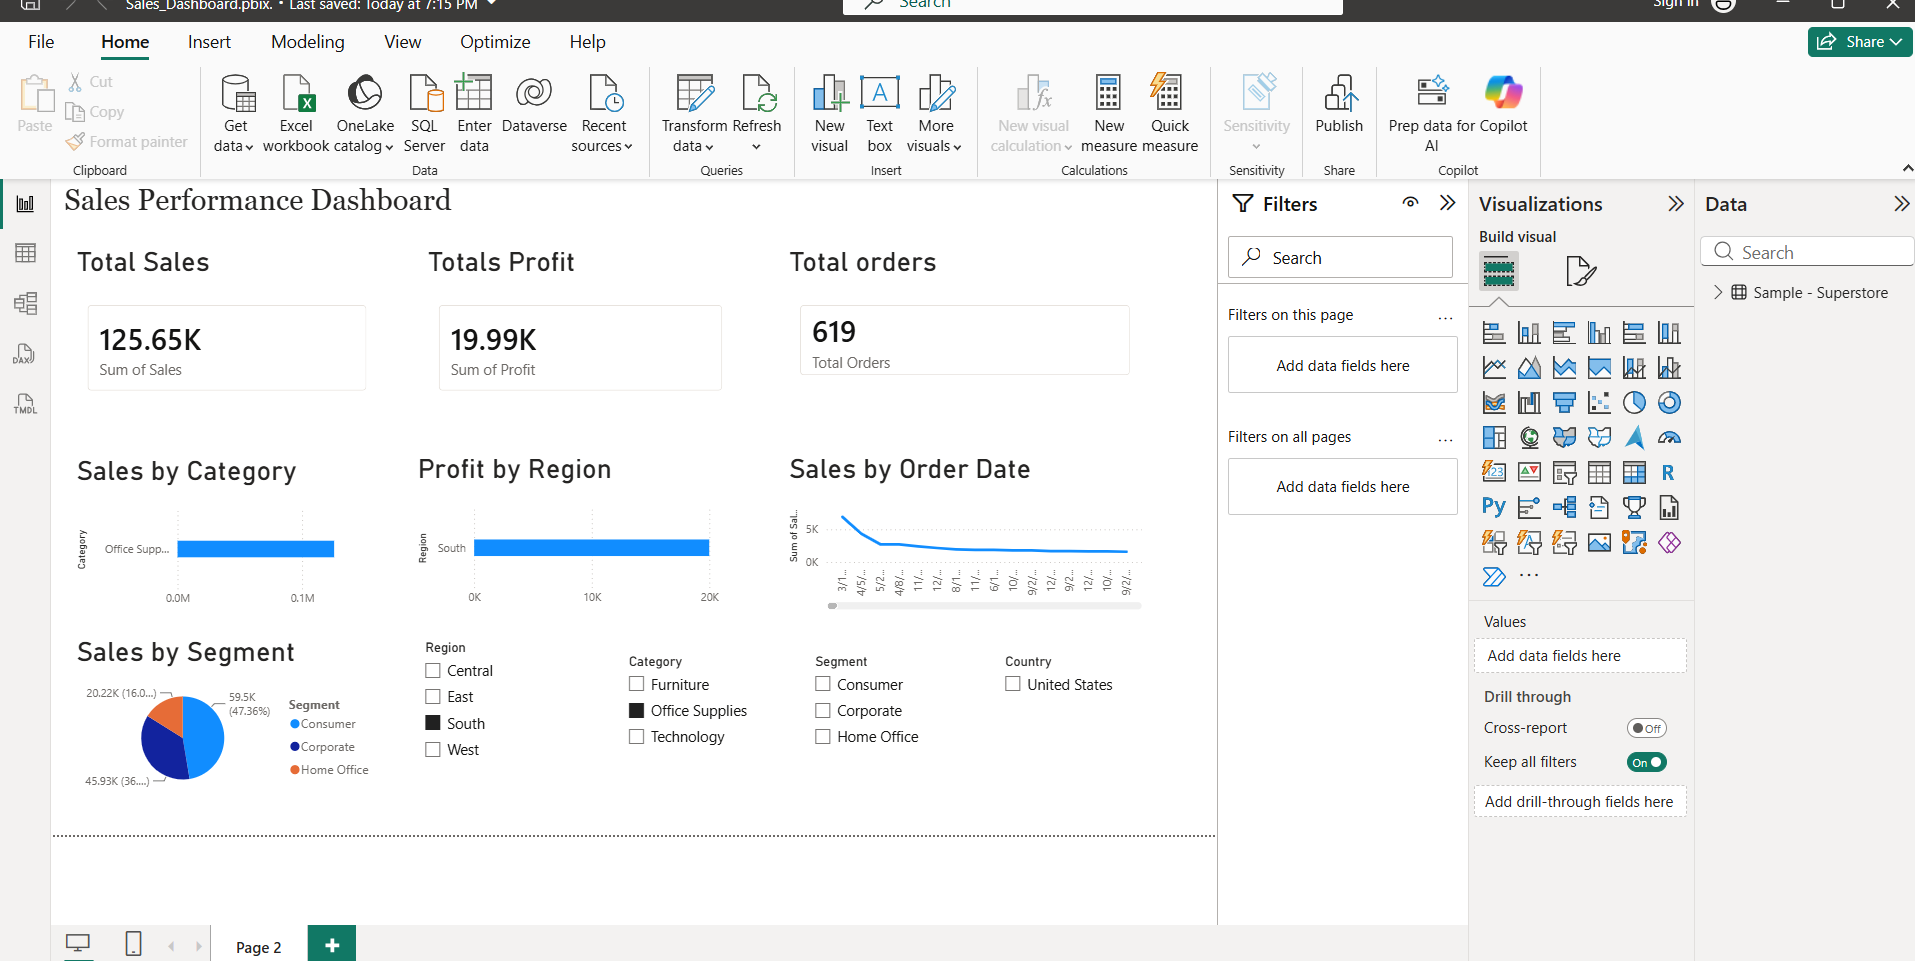

This screenshot's page, from the dashboard's own definition file:
{"tool":"powerbi","page":{"name":"Page 2","canvas":[1280,720],"ordinal":0},"visuals":[{"type":"textbox","box":[9.6,0,1270.7,50.8],"z":0},{"type":"cardVisual","title":"Total Sales","fields":{"Data":["Sum(Sample - Superstore.Sales)"]},"box":[23.3,72.7,340.3,177],"z":1},{"type":"cardVisual","title":"Totals Profit","fields":{"Data":["Sum(Sample - Superstore.Profit)"]},"box":[408.9,72.7,345.8,177],"z":2},{"type":"cardVisual","title":"Total orders","fields":{"Data":["Sample - Superstore.Total Orders"]},"box":[805.5,72.7,396.6,160.5],"z":3},{"type":"clusteredBarChart","title":" Sales by Category","fields":{"Category":["Sample - Superstore.Category"],"Y":["Sum(Sample - Superstore.Sales)"]},"box":[23,301.5,340,177],"z":4},{"type":"clusteredBarChart","title":" Profit by Region","fields":{"Y":["Sum(Sample - Superstore.Profit)"],"Category":["Sample - Superstore.Region"]},"box":[397.9,300.5,340,177],"z":5},{"type":"lineChart","title":" Sales by Order Date","fields":{"Y":["Sum(Sample - Superstore.Sales)"],"Category":["Sample - Superstore.Order Date"]},"box":[805,301,397,177],"z":6},{"type":"pieChart","title":"Sales by Segment","fields":{"Category":["Sample - Superstore.Segment"],"Y":["Sum(Sample - Superstore.Sales)"]},"box":[23,501,340,177],"z":7},{"type":"slicer","fields":{"Values":["Sample - Superstore.Region"]},"box":[397.9,500.9,199,177],"z":8},{"type":"slicer","fields":{"Values":["Sample - Superstore.Category"]},"box":[621.6,516,204.5,177],"z":9},{"type":"slicer","fields":{"Values":["Sample - Superstore.Segment"]},"box":[826.1,516,208.6,177],"z":10},{"type":"slicer","fields":{"Values":["Sample - Superstore.Country"]},"box":[1035,516,167,177],"z":11}]}

Visuals, with their boxes on the page's 1280x720 design canvas (x1, y1, x2, y2). These are canvas units, not pixel positions in the 1915x961 screenshot, which may show the page scaled, cropped or inside an application window:
textbox: (x1=10, y1=0, x2=1280, y2=51)
"Total Sales" cardVisual: (x1=23, y1=73, x2=364, y2=250)
"Totals Profit" cardVisual: (x1=409, y1=73, x2=755, y2=250)
"Total orders" cardVisual: (x1=806, y1=73, x2=1202, y2=233)
" Sales by Category" clusteredBarChart: (x1=23, y1=302, x2=363, y2=478)
" Profit by Region" clusteredBarChart: (x1=398, y1=300, x2=738, y2=478)
" Sales by Order Date" lineChart: (x1=805, y1=301, x2=1202, y2=478)
"Sales by Segment" pieChart: (x1=23, y1=501, x2=363, y2=678)
slicer - Sample - Superstore.Region: (x1=398, y1=501, x2=597, y2=678)
slicer - Sample - Superstore.Category: (x1=622, y1=516, x2=826, y2=693)
slicer - Sample - Superstore.Segment: (x1=826, y1=516, x2=1035, y2=693)
slicer - Sample - Superstore.Country: (x1=1035, y1=516, x2=1202, y2=693)
